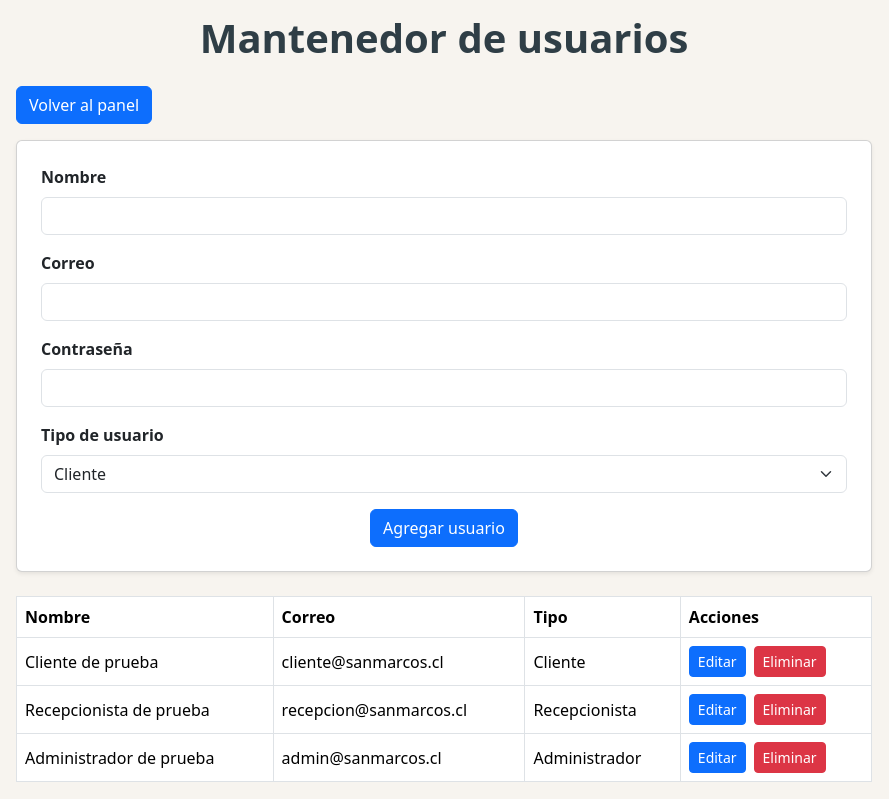
agrega un usuario nuevo a la tabla
Check: the text "cliente@sanmarcos.cl" is shown, box left=273, top=638, right=525, bottom=686
// Llenamos el formulario y presionamos Agregar
In the field labelled "Nombre": (444, 216) left=41, top=197, right=847, bottom=235, type "Usuario nuevo"
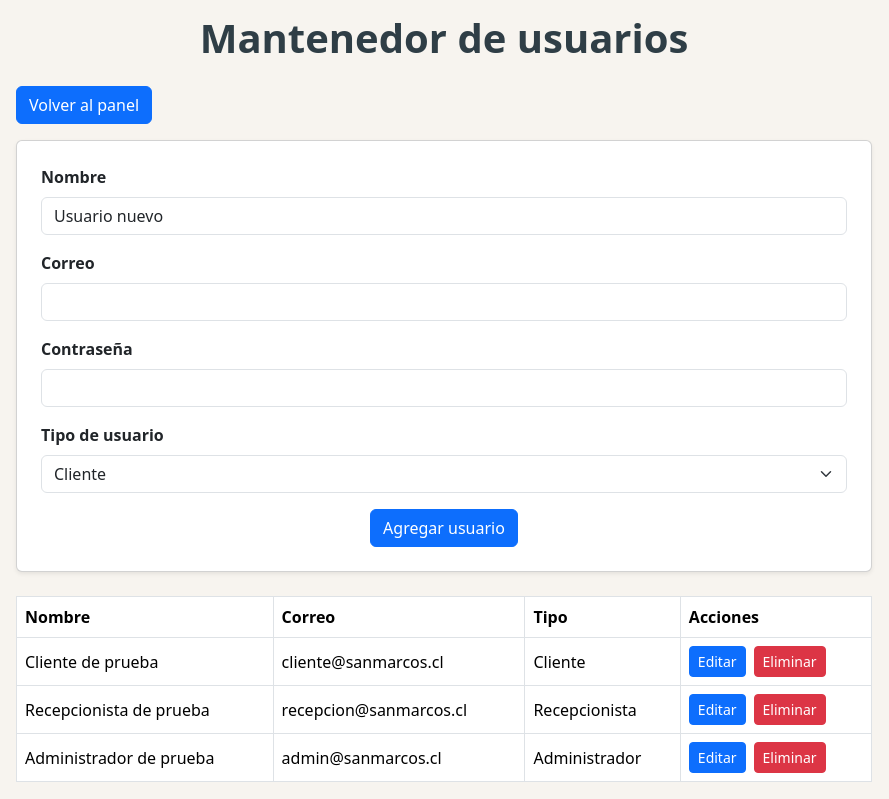
In the field labelled "Correo": (444, 302) left=41, top=283, right=847, bottom=321, type "nuevo@correo.cl"
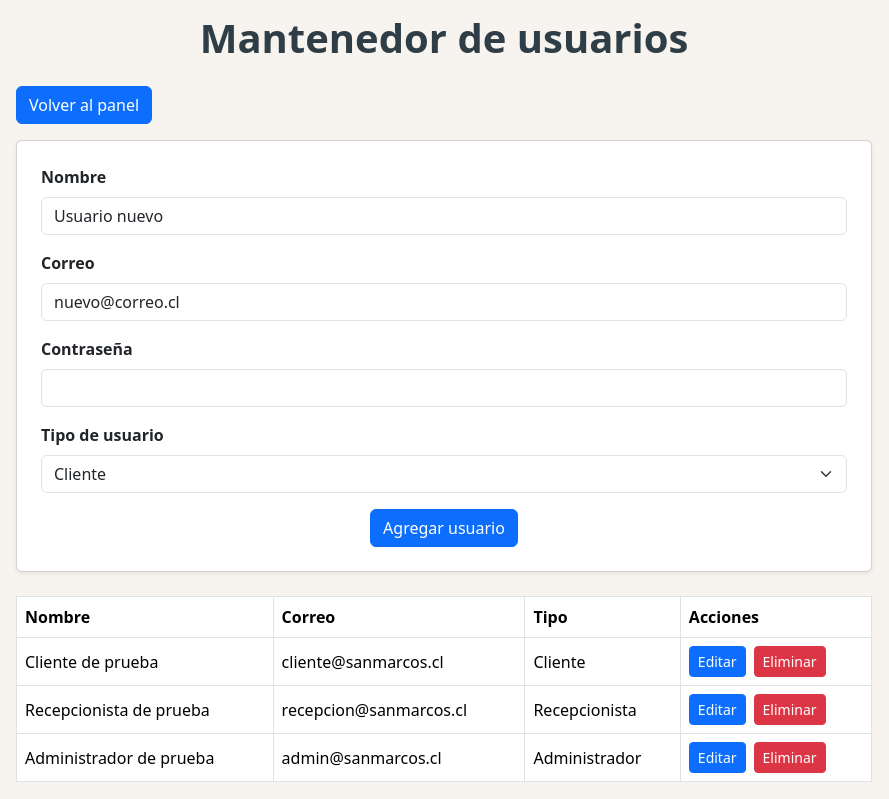
In the password field labelled "Contraseña": (444, 388) left=41, top=369, right=847, bottom=407, type "clave1234"
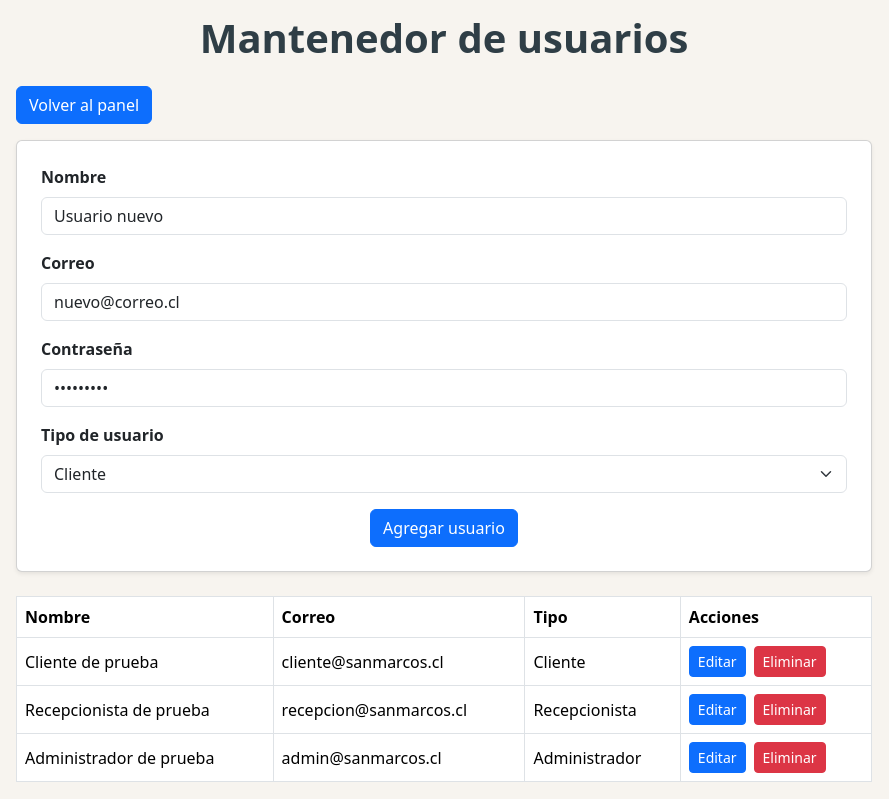
Click the button "Agregar usuario": click(444, 528) left=370, top=509, right=518, bottom=547
(page scrolled)
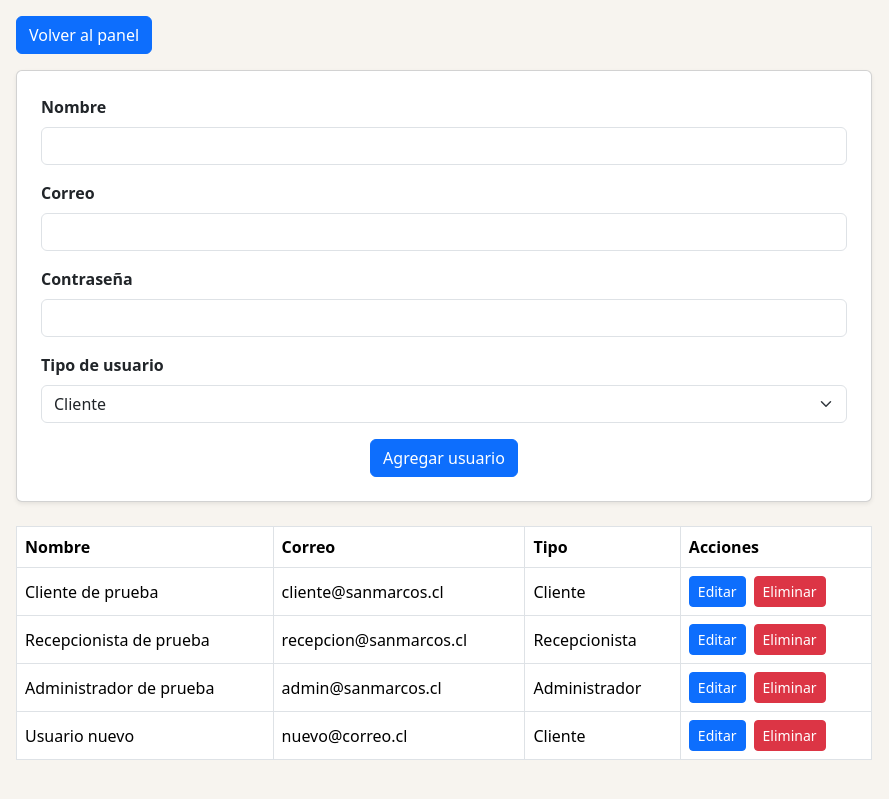
Check: the text "nuevo@correo.cl" is shown, box left=273, top=712, right=525, bottom=760
